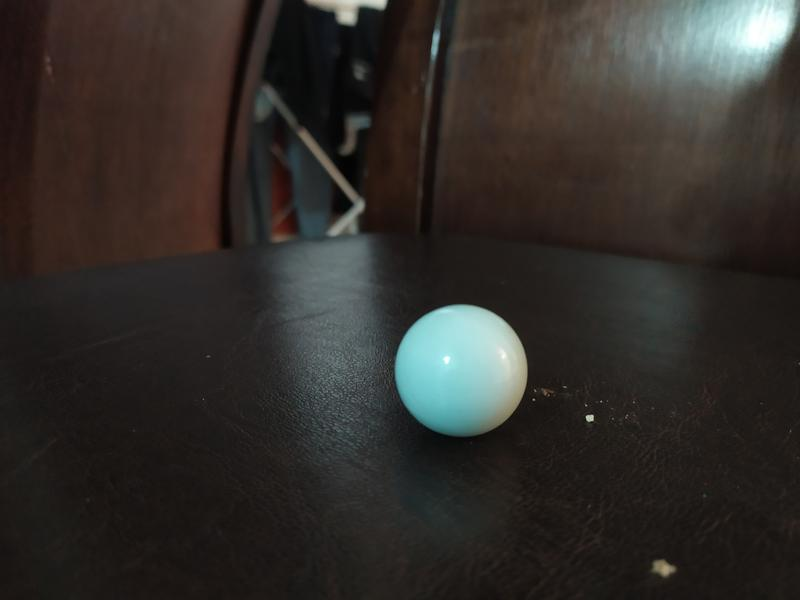Warning: (389, 299, 532, 440)
